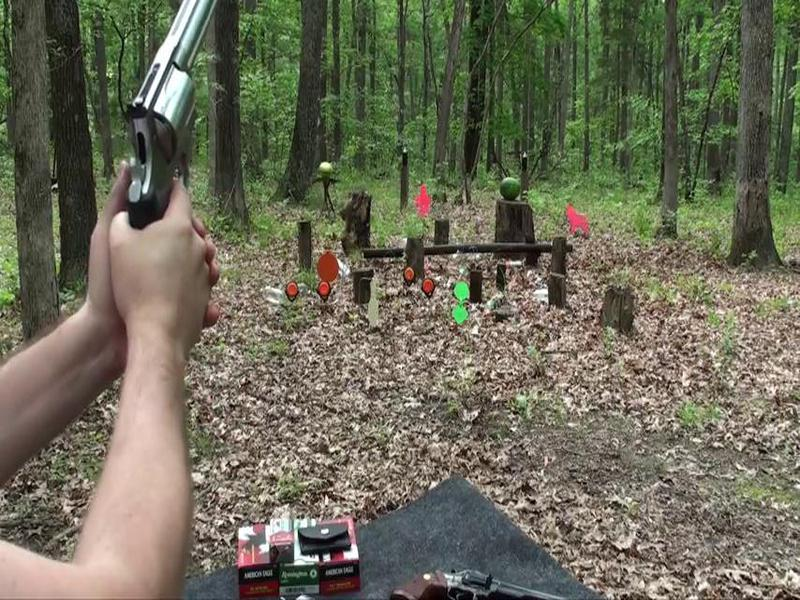Revolver: (90, 1, 251, 315)
